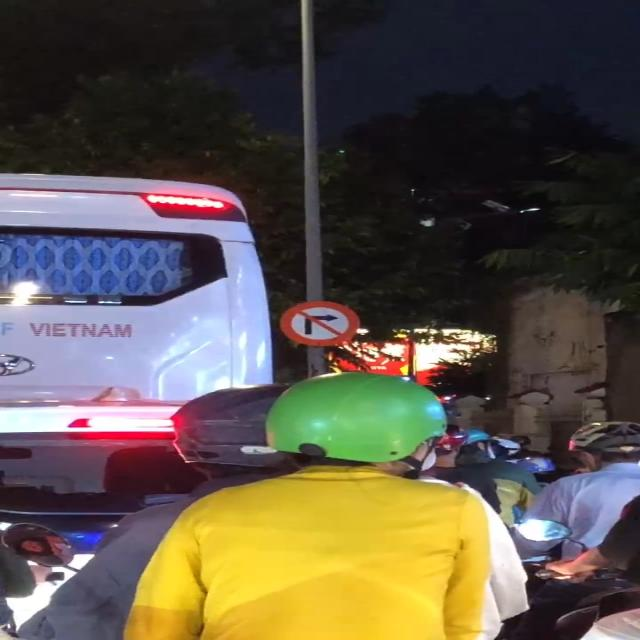Bien bao cam re phai: (281, 295, 384, 354)
